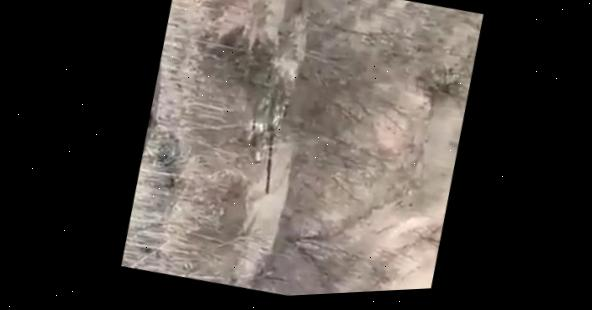tank: (223, 55, 302, 200)
